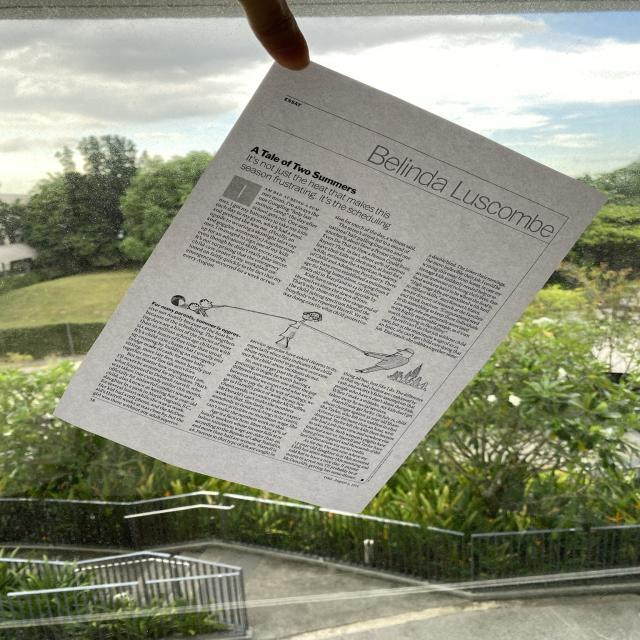document: (55, 64, 607, 512)
